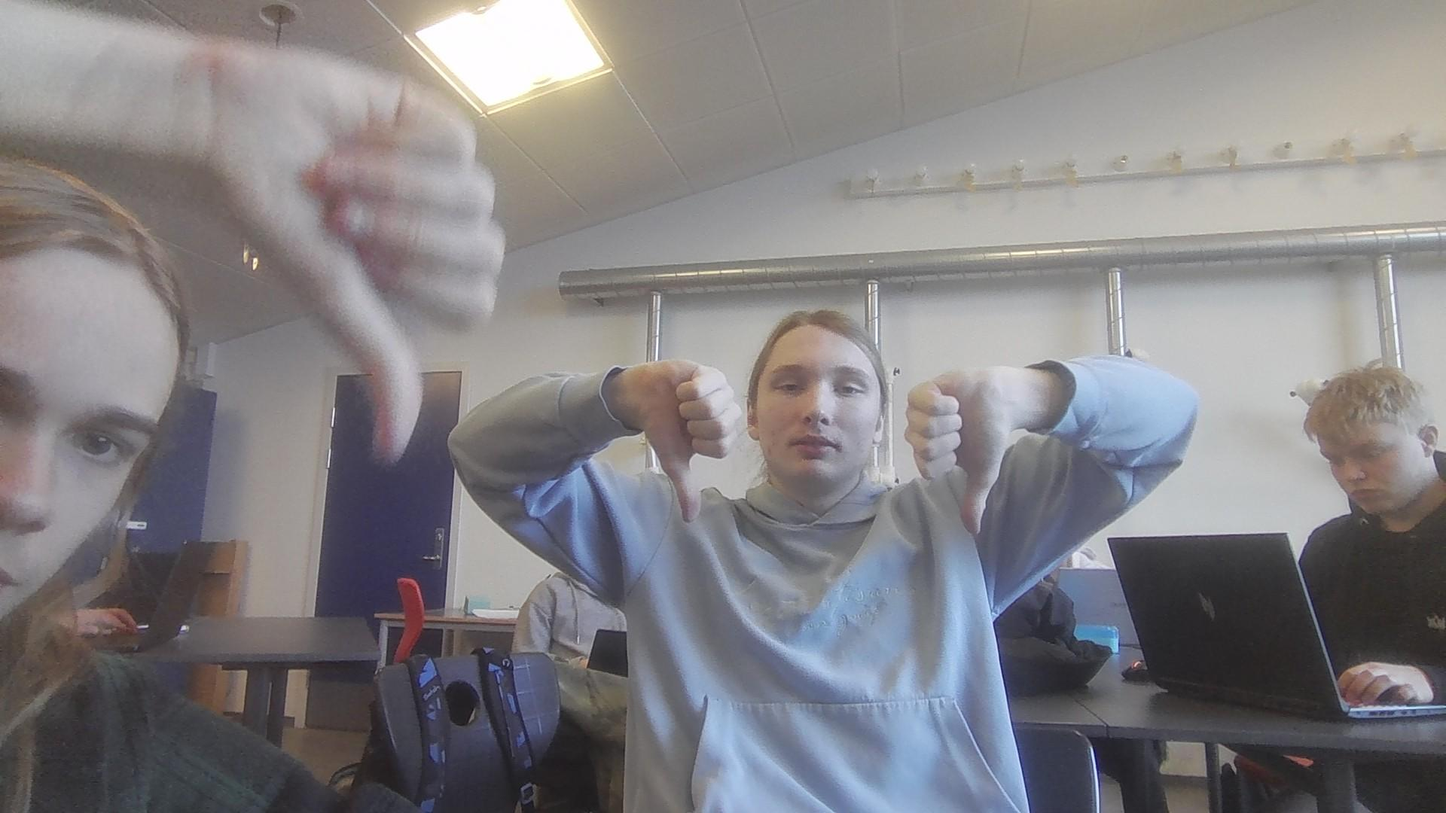thumbs down: (237, 35, 510, 480), (633, 358, 744, 523), (908, 368, 1015, 539)
